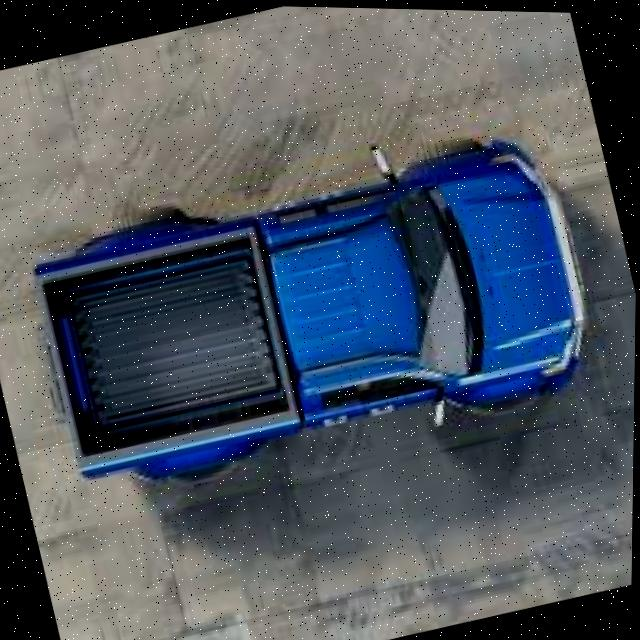truck: (24, 108, 610, 520)
